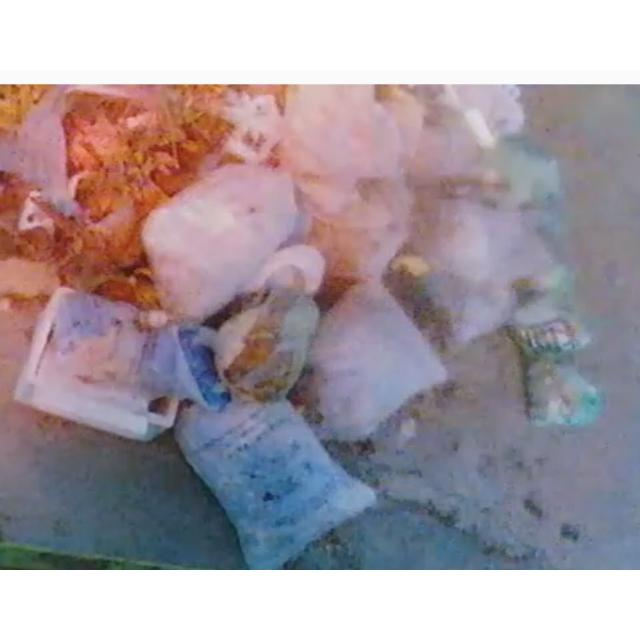general_trashbag: (506, 291, 591, 356), (524, 361, 604, 427)
other_trashbag: (176, 400, 375, 569), (15, 288, 230, 441), (284, 86, 408, 278), (142, 165, 296, 319), (309, 281, 446, 441), (206, 245, 325, 402), (432, 195, 546, 341)
